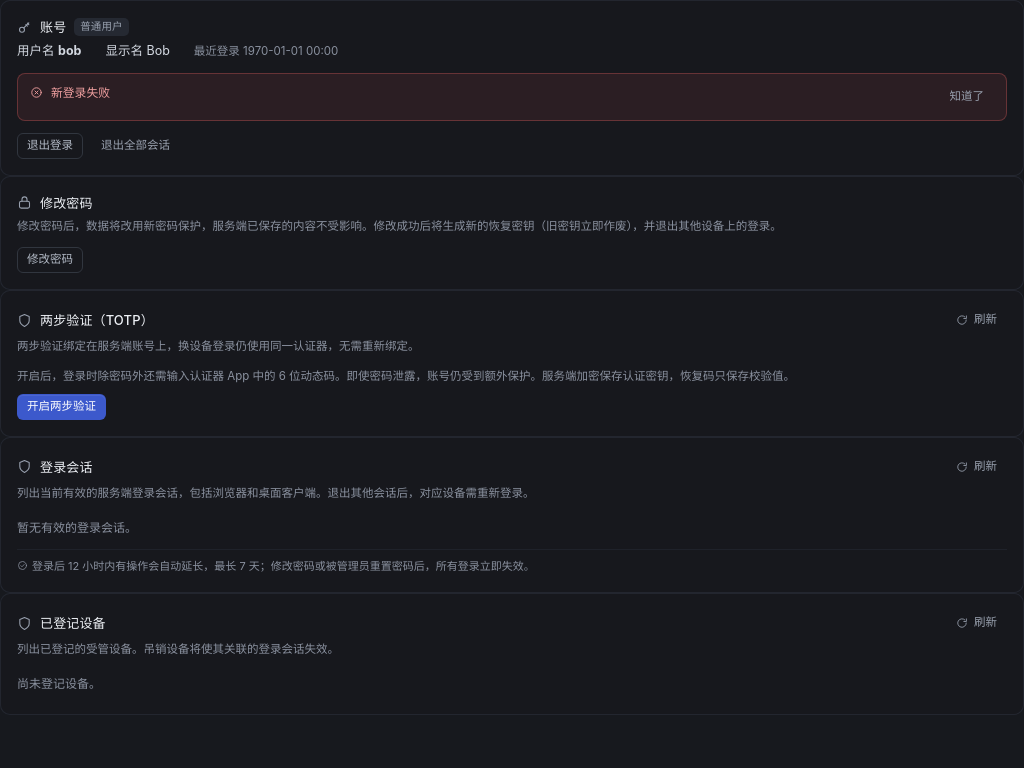
it: AuthCard cleanup evidence › prioritizes a newer auth error and returns to cleanup evidence after it is acknowledged
This screenshot has width=1024, height=768.
Expected: the message "新登录失败 知道了" is shown, 17,72 -> 1007,120
Expected: the text "补充清理" is not shown
Click the button "知道了".
click(967, 96)  # box 940,84 -> 994,110
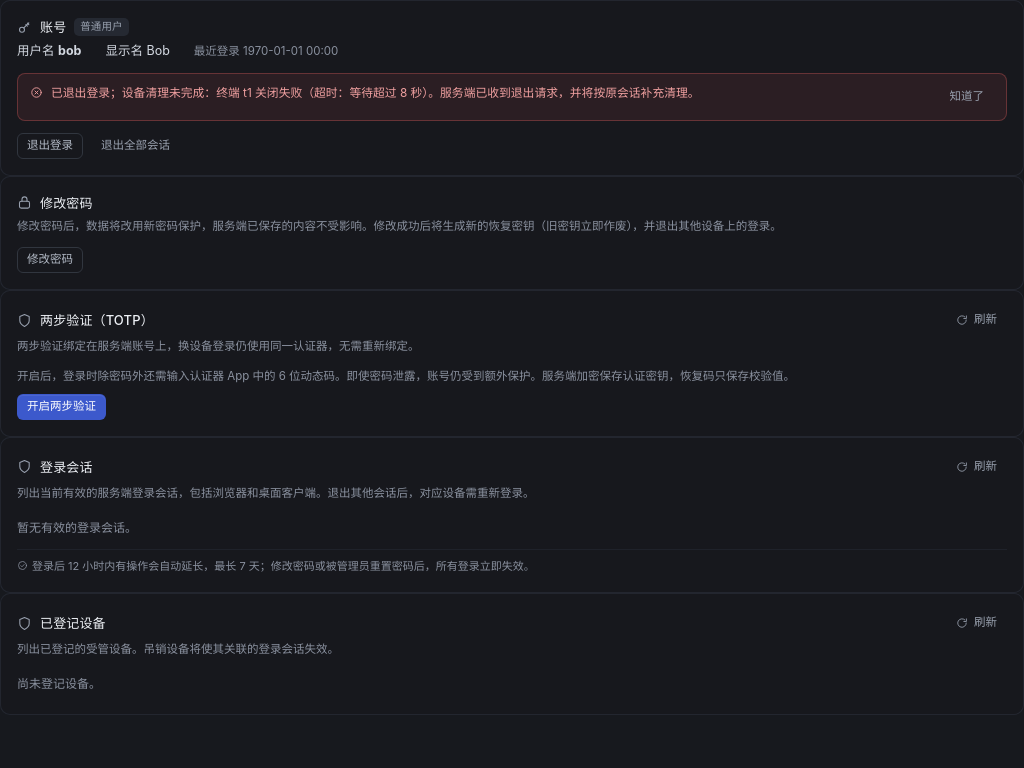
Expected: the message "已退出登录；设备清理未完成：终端 t1 关闭失败（超时：等待超过 8 秒）。服务端已收到退出请求，并将按原会话补充清理。 知道了" is shown, 17,72 -> 1007,120
